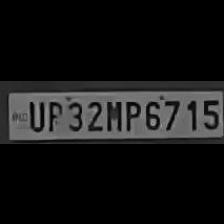1: (182, 96, 198, 130)
2: (84, 96, 104, 130)
3: (64, 97, 82, 130)
5: (198, 95, 220, 129)
6: (140, 97, 162, 130)
7: (161, 96, 179, 130)
M: (104, 97, 120, 130)
P: (121, 97, 139, 130), (44, 97, 61, 131)
U: (24, 97, 43, 130)
